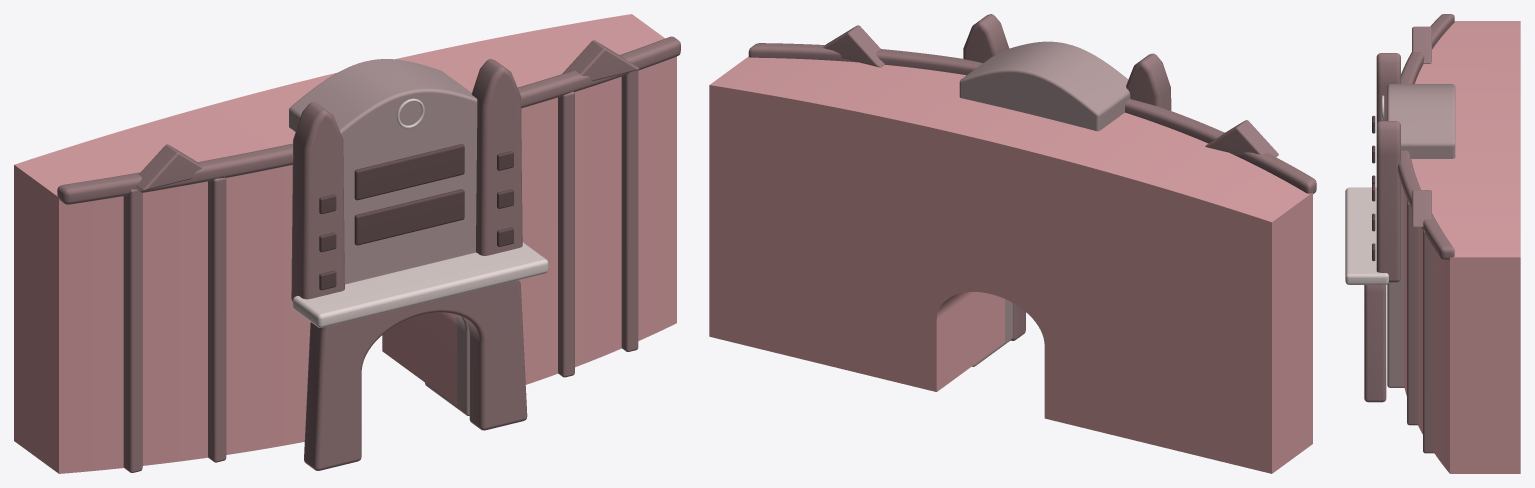
File: pink_building.glb
The picture shows the model from 3 angles, left to right: view 1: azimuth 30°, elevation 25°; view 2: azimuth 150°, elevation 25°; view 3: azimuth 270°, elevation 25°; orthographic projection. The views are drawn at different scales.
Parts seen in each view (by area): view 1: Curved pink building shell, Central raised curved pediment, Projecting entrance arch frame, Central tall fin -1, Entrance pale projecting canopy, Central tall fin 1, Sweeping roof cornice, Wing vertical rib.001, Wing vertical rib, Wing vertical rib.003, Wing vertical rib.002, Central horizontal inset window.001 (+3 smaller); view 2: Curved pink building shell, Central raised curved pediment, Sweeping roof cornice, Central tall fin -1, Central tall fin 1, Side rooftop peak, Side rooftop peak.001; view 3: Curved pink building shell, Central raised curved pediment, Central tall fin 1, Entrance pale projecting canopy, Projecting entrance arch frame, Wing vertical rib.003, Sweeping roof cornice, Wing vertical rib.002, Central tall fin -1, Side rooftop peak.001, Side rooftop peak.
Part boxes in pixels (x1,y1,x2,y2): Curved pink building shell: (14,14,676,473); Central raised curved pediment: (289,59,477,415); Projecting entrance arch frame: (304,280,527,470); Central tall fin -1: (291,102,344,301); Entrance pale projecting canopy: (293,242,548,327); Central tall fin 1: (471,59,522,255); Sweeping roof cornice: (57,36,680,204); Wing vertical rib.001: (123,189,142,472); Wing vertical rib: (208,177,226,462); Wing vertical rib.003: (621,66,638,351); Wing vertical rib.002: (558,91,574,377); Central horizontal inset window.001: (354,144,464,200); Curved pink building shell: (709,56,1312,473); Central raised curved pediment: (959,41,1130,366); Sweeping roof cornice: (748,43,1316,193); Central tall fin -1: (1126,53,1171,110); Central tall fin 1: (963,14,1009,62); Side rooftop peak: (1205,120,1278,156); Side rooftop peak.001: (823,25,884,67); Curved pink building shell: (1404,21,1520,473); Central raised curved pediment: (1387,84,1455,387); Central tall fin 1: (1376,121,1400,282); Entrance pale projecting canopy: (1345,187,1388,284); Projecting entrance arch frame: (1364,285,1386,402); Wing vertical rib.003: (1423,230,1434,453); Sweeping roof cornice: (1398,14,1454,259); Wing vertical rib.002: (1407,200,1417,425); Central tall fin -1: (1376,53,1400,123); Side rooftop peak.001: (1412,190,1431,226); Side rooftop peak: (1412,26,1431,63).
Bounding box in the file's own units: 7.3 × 3.96 × 2.29.
